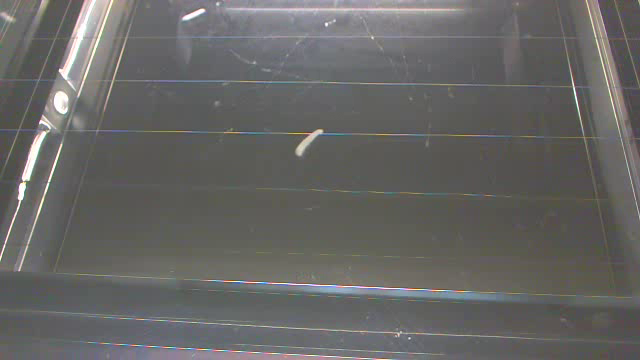alpha: (293, 128, 328, 157), (181, 5, 209, 22)
